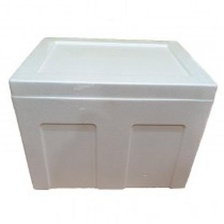foam_box: (3, 32, 221, 193)
